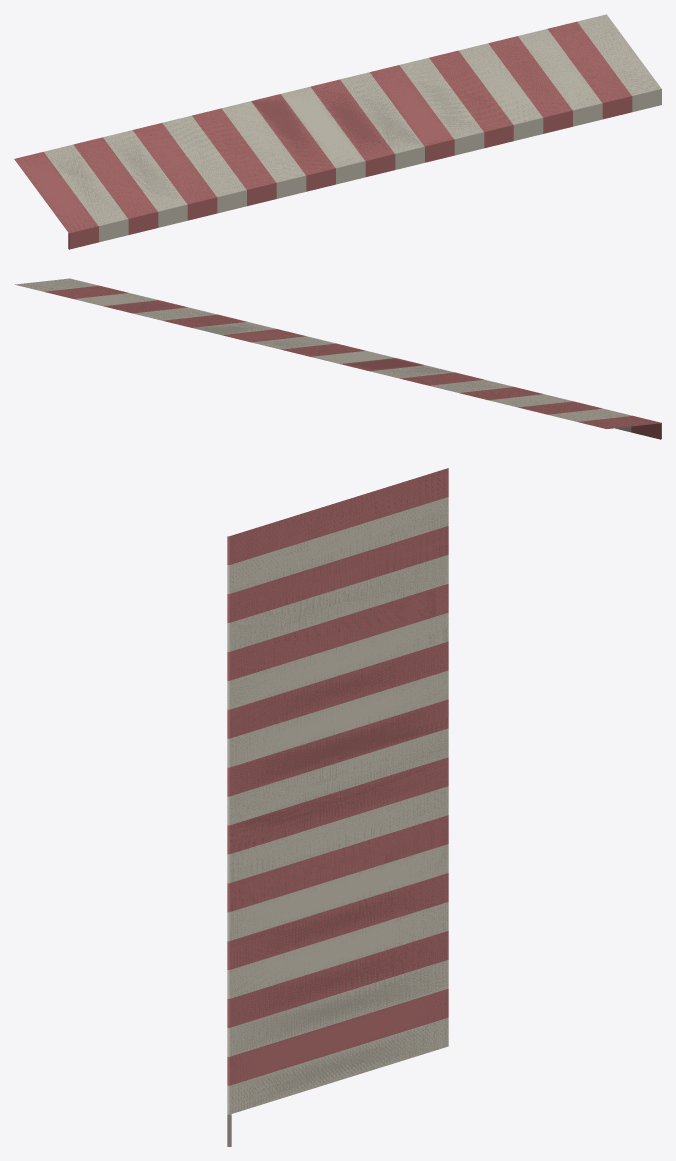
File: toldo.glb
3 views of the same model, one above another, from view 1: azimuth 30°, elevation 25°; view 2: azimuth 150°, elevation 25°; view 3: azimuth 270°, elevation 25° (orthographic). The views are drawn at different scales.
Visible parts, largest first — view 1: Toldo_1000x170; view 2: Toldo_1000x170; view 3: Toldo_1000x170.
Boxes of the visible parts, x1,y1,x2,y2 form: Toldo_1000x170: (14,14,661,249); Toldo_1000x170: (15,278,661,439); Toldo_1000x170: (227,468,448,1146).
Bounding box in the file's own units: 10 × 0.81 × 1.62.
